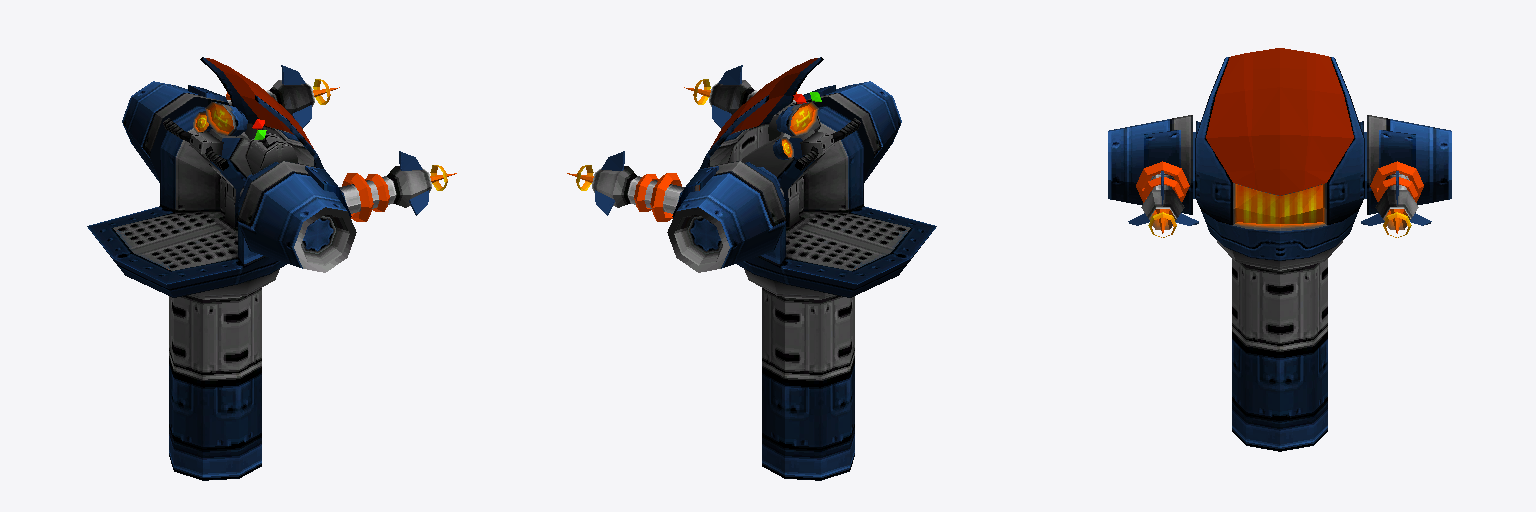
3 views of the same model, side by side, from view 1: azimuth 30°, elevation 25°; view 2: azimuth 150°, elevation 25°; view 3: azimuth 270°, elevation 25° (orthographic).
Visible parts, largest first — view 1: Texture_767; view 2: Texture_767; view 3: Texture_767.
Part boxes in pixels (left/top/right/bottom): Texture_767: left=87, top=57, right=456, bottom=480; Texture_767: left=567, top=57, right=936, bottom=480; Texture_767: left=1108, top=48, right=1451, bottom=451.
Size of the model in its own units: 25.66 by 33.54 by 26.78.
Materials: 1 (1 with a texture image).